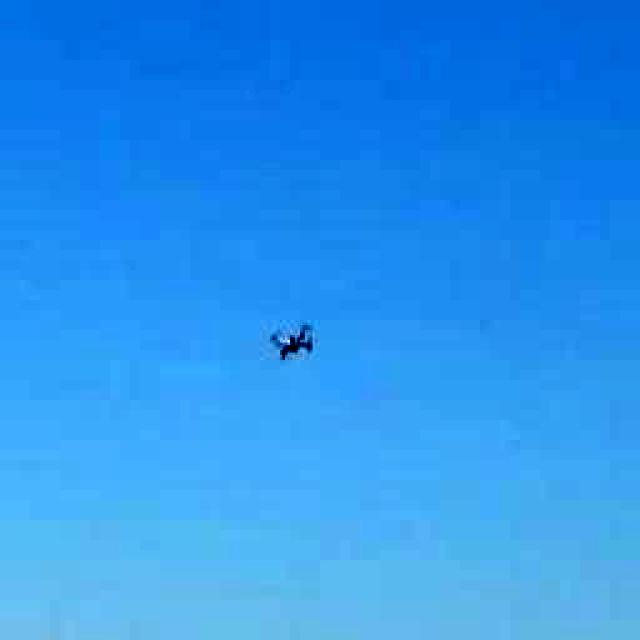bird: (238, 304, 348, 376)
